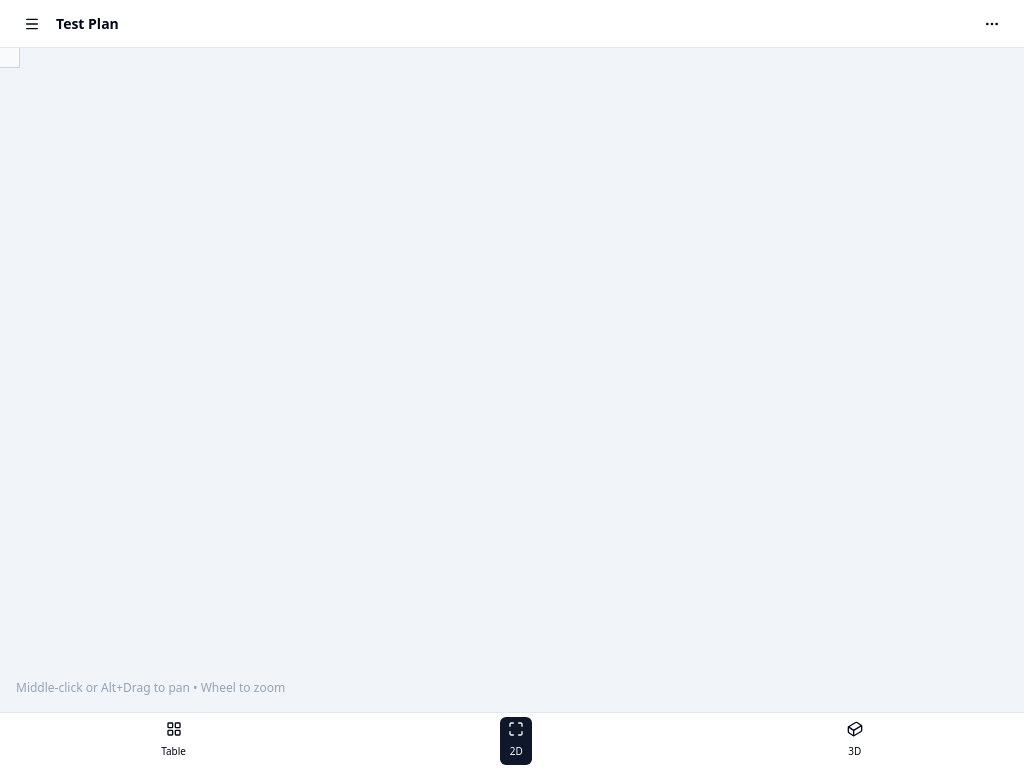
it: Mobile Integration › renders MobileRoomTable on mobile when in table mode
The image size is (1024, 768).
Click the button "Table".
click(174, 740)  # box [153,716,194,764]
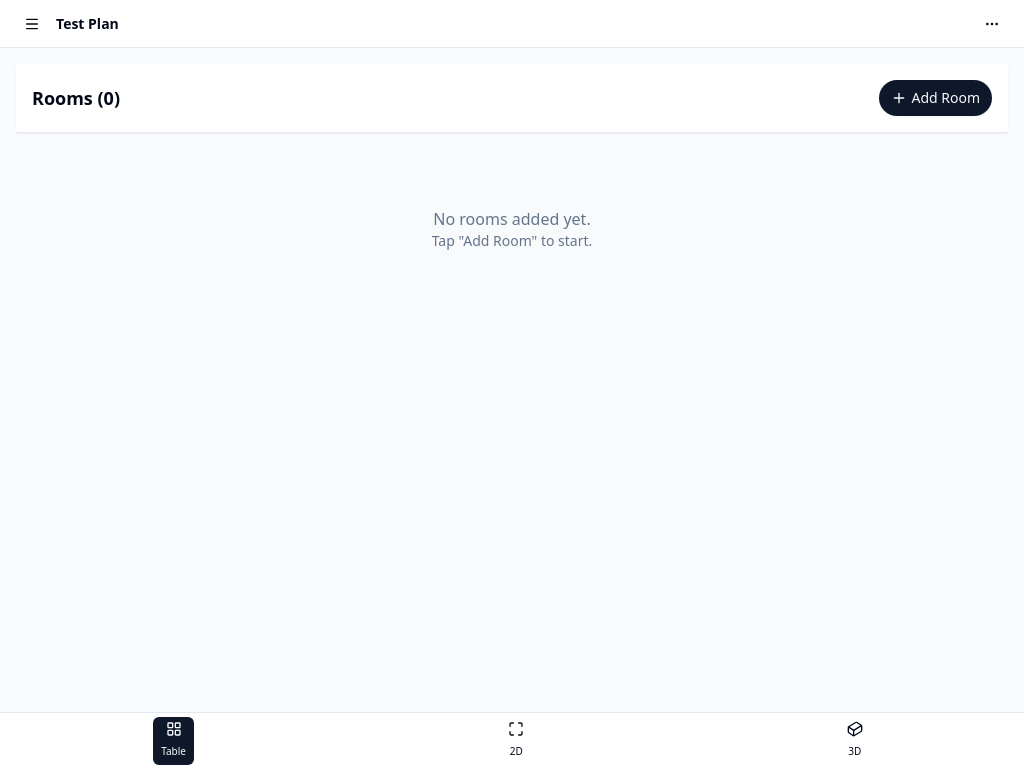
Result: the text "No rooms added yet." is shown at [433,207,591,231]
Result: the button "Add Room" is shown at [880,80,992,116]
